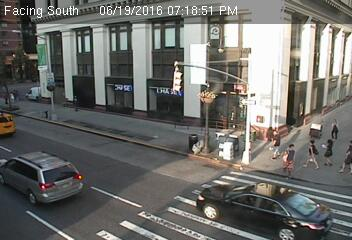neg: (232, 190, 255, 221), (28, 167, 45, 189), (60, 174, 71, 189), (48, 193, 59, 208), (49, 146, 58, 159), (27, 153, 36, 166)
pos: (278, 142, 304, 176), (335, 138, 351, 176), (301, 140, 322, 168), (326, 115, 345, 140), (321, 138, 339, 162)
